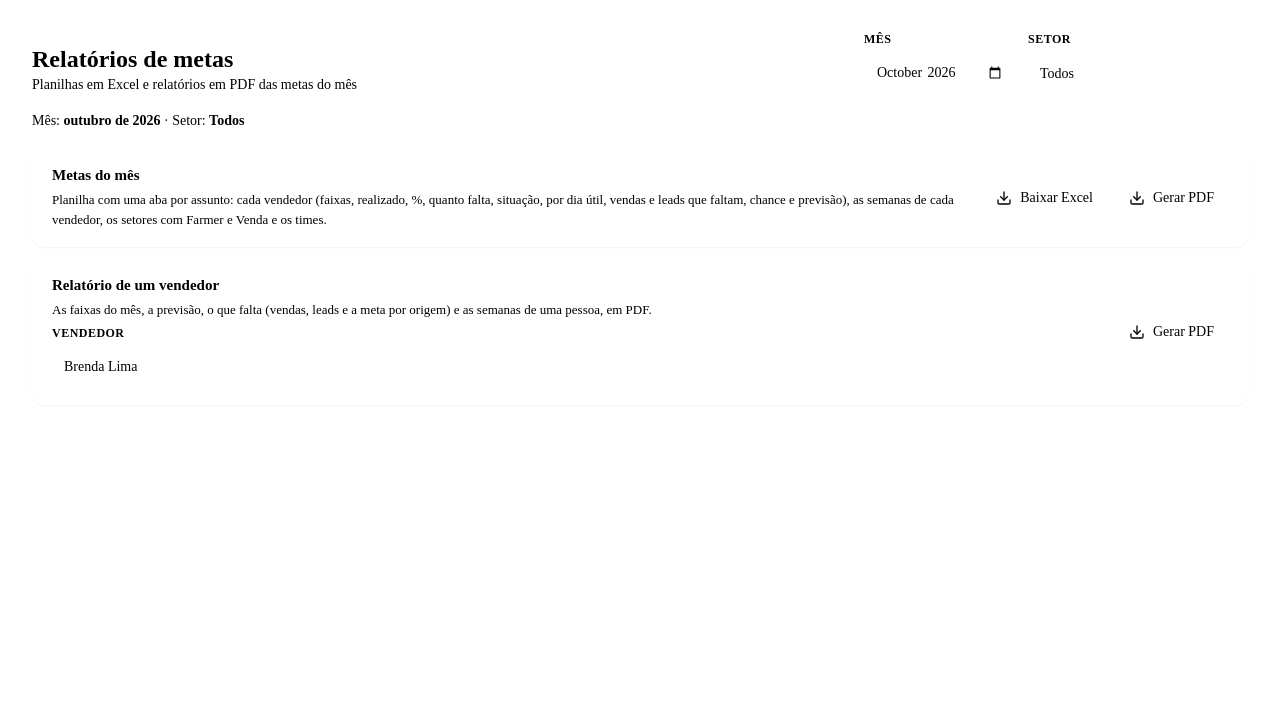
Relatórios com os dados falsos (quarta 21/10/2026) › Metas › PDF de um vendedor com as faixas, a previsão e as semanas
This screenshot has width=1280, height=720.
Select "Brenda Lima" in the dropdown named "Vendedor do relatório" at (574, 366), box x1=52 y1=346 x2=1095 y2=386
Click the 2nd button "Gerar PDF" at (1172, 332), box x1=1115 y1=312 x2=1228 y2=352
(page scrolled)
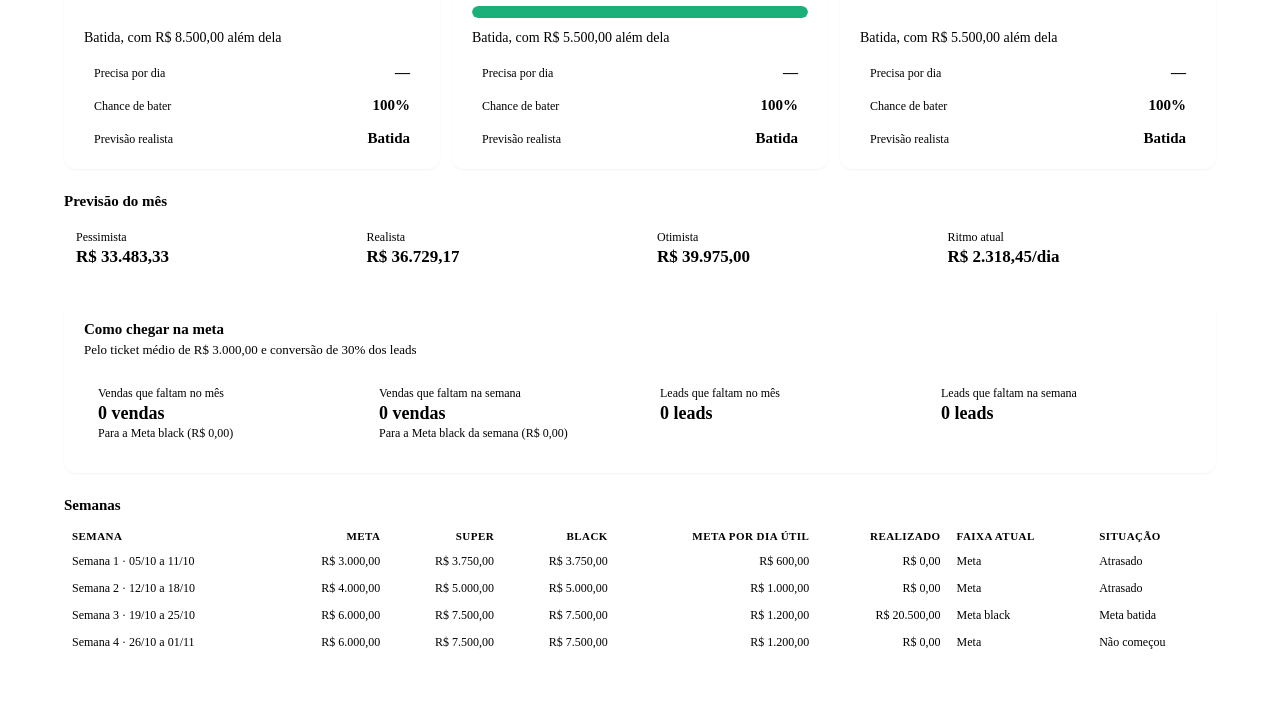
Now the element "Meta" is shown, box x1=64 y1=0 x2=440 y2=168
Now the table named "Semanas" is shown, box x1=64 y1=524 x2=1216 y2=656
